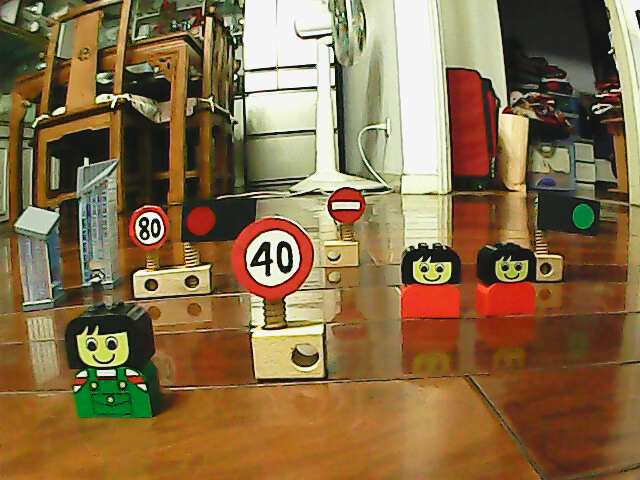Green Traffic Light: (566, 198, 600, 235)
Person: (64, 302, 162, 419), (476, 238, 540, 318), (400, 241, 463, 319)
Red Traffic Light: (181, 198, 219, 242)
Speed Limit 40: (229, 215, 317, 301)
Speed Limit 80: (127, 203, 171, 251)
Stop Sign: (328, 186, 368, 226)
